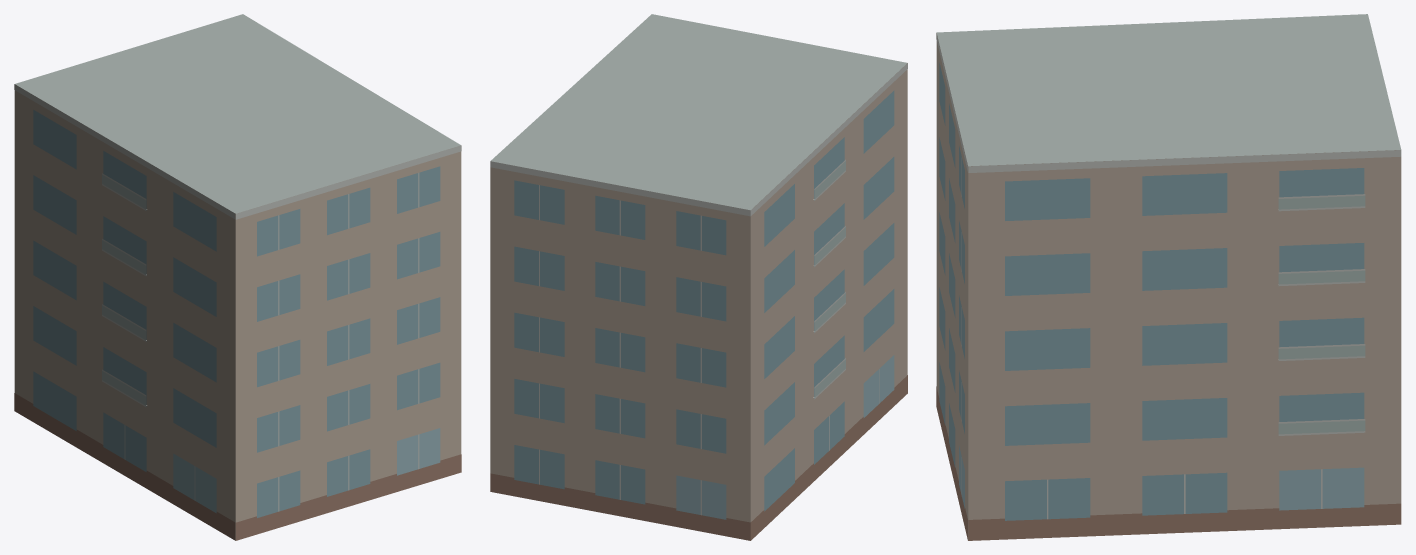
The model's file is survey-upis-32740604.glb.
3 renders of one model, left to right at view 1: azimuth 30°, elevation 25°; view 2: azimuth 150°, elevation 25°; view 3: azimuth 270°, elevation 25°, orthographic. The views are drawn at different scales.
Visible parts, largest first — view 1: survey-upis-32740604.tmp; view 2: survey-upis-32740604.tmp; view 3: survey-upis-32740604.tmp.
Part boxes in pixels (bbox=[...]): survey-upis-32740604.tmp: bbox=[14, 14, 461, 540]; survey-upis-32740604.tmp: bbox=[490, 14, 907, 540]; survey-upis-32740604.tmp: bbox=[936, 14, 1401, 540].
Size of the model in its own units: 11.51 by 13.2 by 14.85.
